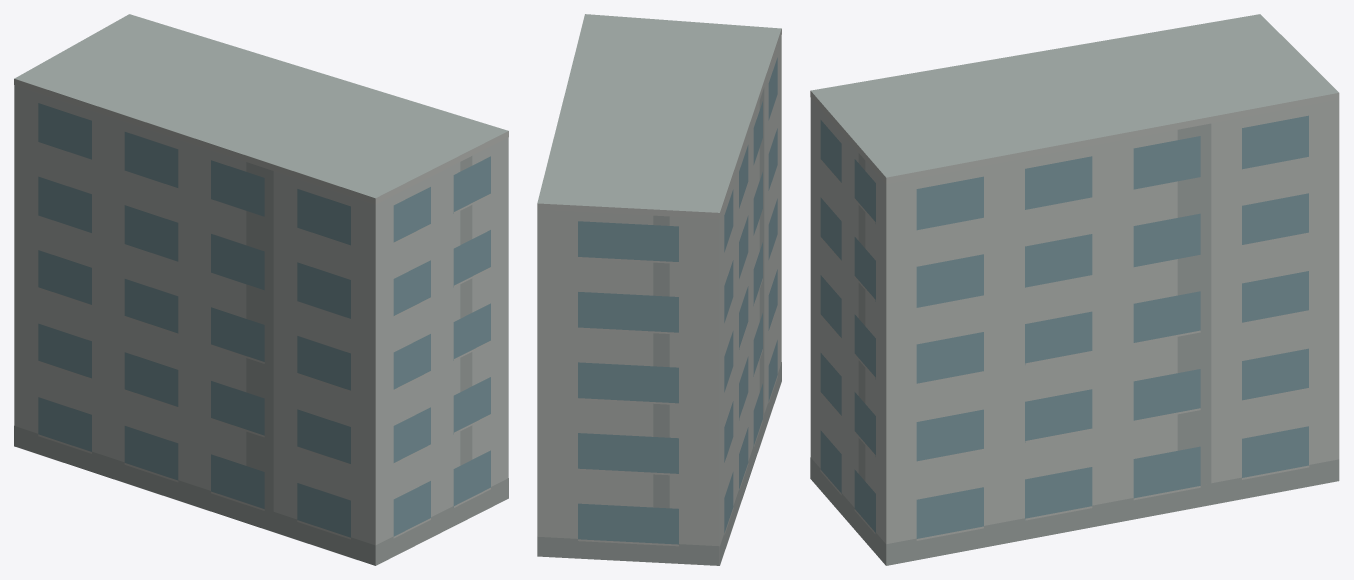
Rendered from survey-upis-32882659.glb.
3 renders of one model, left to right at view 1: azimuth 30°, elevation 25°; view 2: azimuth 150°, elevation 25°; view 3: azimuth 270°, elevation 25°, orthographic. The views are drawn at different scales.
Visible parts, largest first — view 1: survey-upis-32882659.tmp; view 2: survey-upis-32882659.tmp; view 3: survey-upis-32882659.tmp.
Boxes of the visible parts, bbox=[...] form: survey-upis-32882659.tmp: bbox=[14, 14, 508, 565]; survey-upis-32882659.tmp: bbox=[537, 14, 781, 565]; survey-upis-32882659.tmp: bbox=[810, 14, 1339, 565].
Size of the model in its own units: 12.66 by 14 by 17.29.
